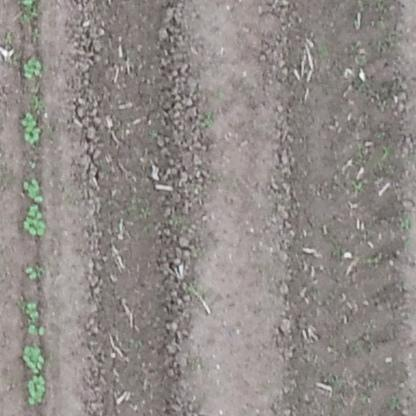vc: (22, 374, 50, 407), (21, 204, 48, 238), (17, 111, 43, 146), (19, 344, 47, 372), (21, 54, 45, 80), (23, 175, 46, 201), (26, 322, 50, 338), (24, 299, 40, 321), (23, 264, 38, 283)
